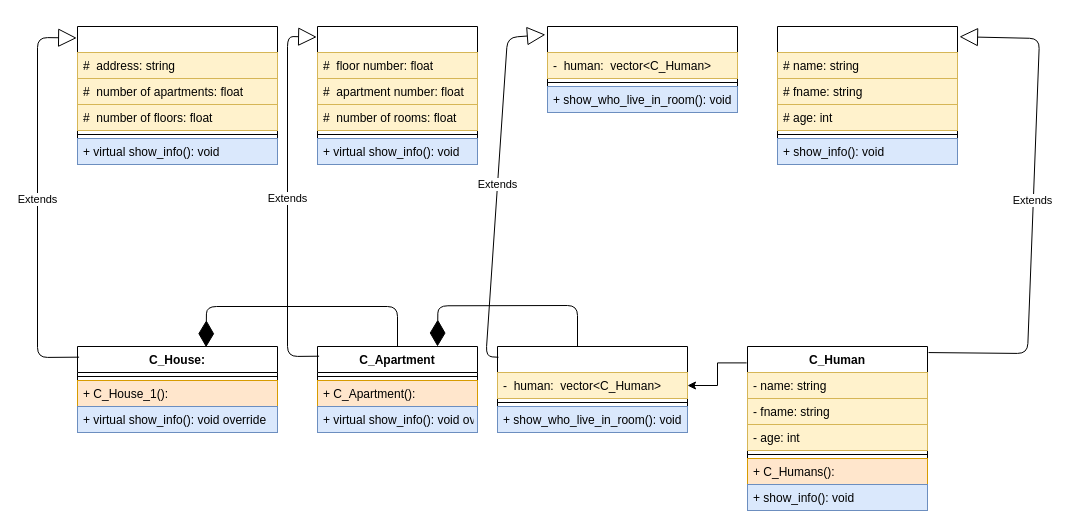
Some shapes in this 1075 by 531 pixel diagram are drawn without their labels. The box of each missing label's shape, as (x1, y1, x2, y2) in pixels:
C_Apartment_Abstract: (316, 26, 478, 164)
C_House_Abstract:: (76, 26, 278, 164)
C_Human_Abstract: (776, 26, 958, 164)
C_Room: (496, 346, 688, 432)
C_Room_Abstract: (546, 26, 738, 112)
